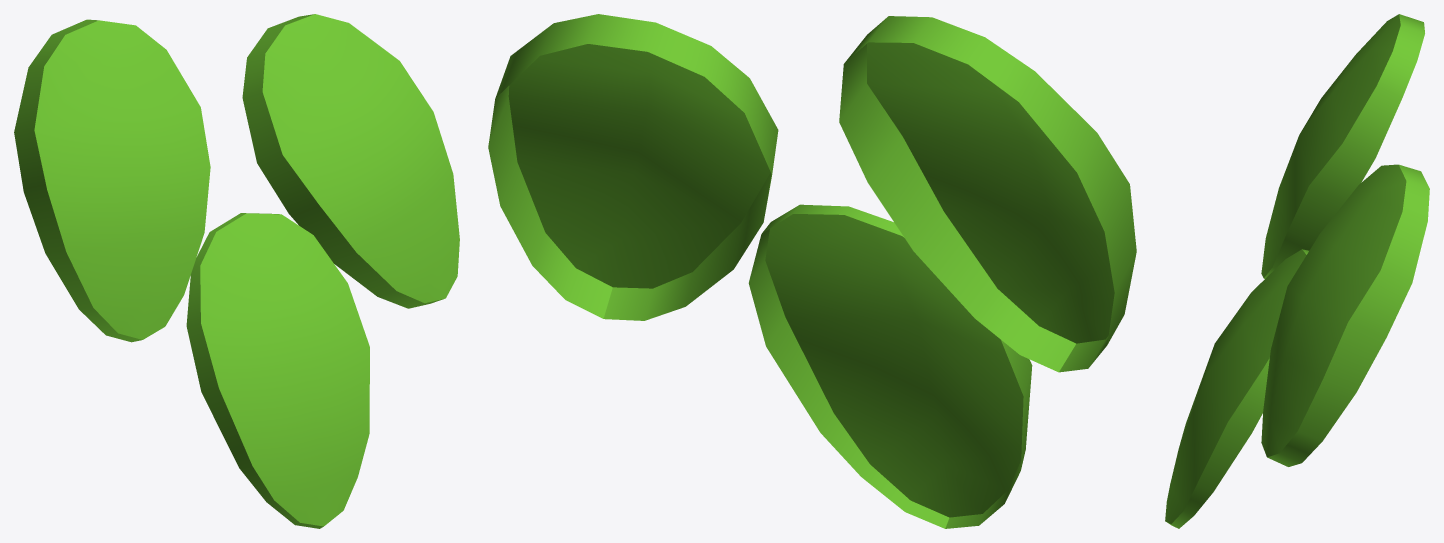
Rendered from ChristmasTree_Dif4_Sc1.fbx.
3 renders of one model, left to right at view 1: azimuth 30°, elevation 25°; view 2: azimuth 150°, elevation 25°; view 3: azimuth 270°, elevation 25°, orthographic. The views are drawn at different scales.
Parts seen in each view (by area): view 1: ChristmasTree_Dif4_Sc1; view 2: ChristmasTree_Dif4_Sc1; view 3: ChristmasTree_Dif4_Sc1.
Boxes of the visible parts, <box> form: ChristmasTree_Dif4_Sc1: <box>14,14,459,528</box>; ChristmasTree_Dif4_Sc1: <box>488,14,1136,528</box>; ChristmasTree_Dif4_Sc1: <box>1165,14,1429,528</box>.
Bounding box in the file's own units: 0.6991 × 0.3922 × 0.7336.
